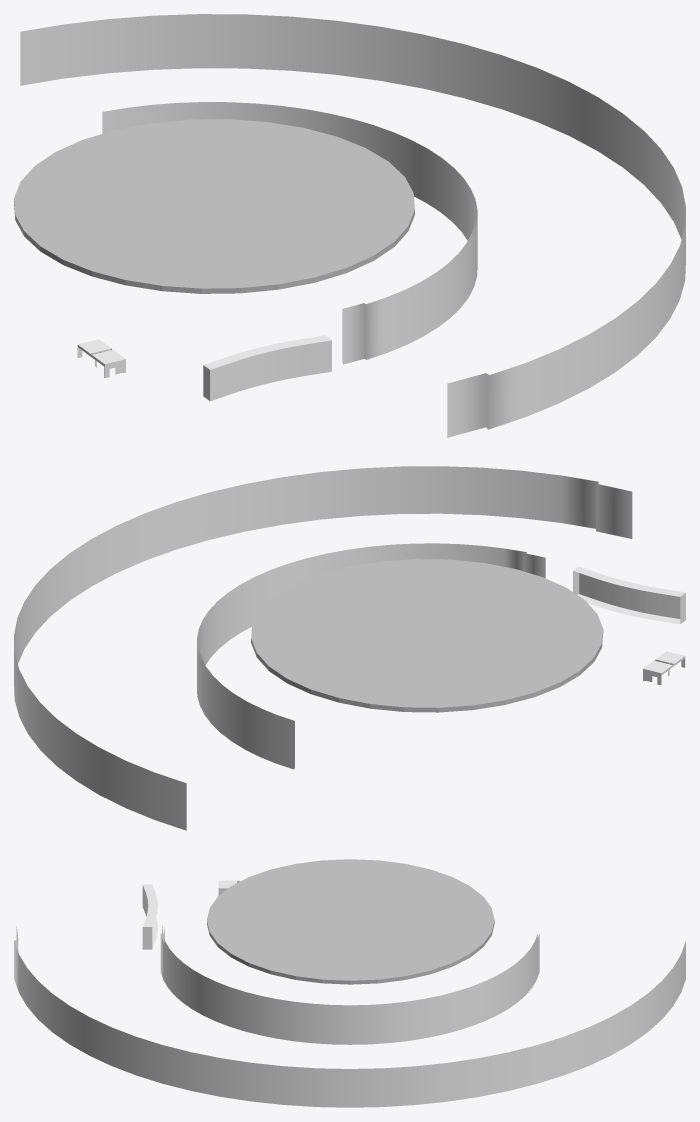
File: theroomv2_test9_glass.obj
3 renders of one model, top to bottom at view 1: azimuth 30°, elevation 25°; view 2: azimuth 150°, elevation 25°; view 3: azimuth 270°, elevation 25°, orthographic. The views are drawn at different scales.
Visible parts, largest first — view 1: Cylinder.079_Cylinder.084, Cylinder.013, Cylinder.015, Cylinder.016, Cube.199_Cube.214, Cube.219_Cube.235; view 2: Cylinder.079_Cylinder.084, Cylinder.013, Cylinder.015, Cylinder.016, Cube.199_Cube.214, Cube.219_Cube.235; view 3: Cylinder.079_Cylinder.084, Cylinder.013, Cylinder.016, Cube.199_Cube.214, Cylinder.015.
Part boxes in pixels (<box>): Cylinder.079_Cylinder.084: <box>14,119,414,293</box>; Cylinder.013: <box>20,14,685,437</box>; Cylinder.015: <box>104,102,475,362</box>; Cylinder.016: <box>102,102,477,364</box>; Cube.199_Cube.214: <box>203,335,331,401</box>; Cube.219_Cube.235: <box>77,339,125,377</box>; Cylinder.079_Cylinder.084: <box>251,559,603,712</box>; Cylinder.013: <box>14,466,632,830</box>; Cylinder.015: <box>198,544,543,768</box>; Cylinder.016: <box>197,543,545,769</box>; Cube.199_Cube.214: <box>573,566,685,624</box>; Cube.219_Cube.235: <box>643,651,685,685</box>; Cylinder.079_Cylinder.084: <box>207,859,494,984</box>; Cylinder.013: <box>14,926,685,1107</box>; Cylinder.016: <box>160,926,539,1044</box>; Cube.199_Cube.214: <box>142,884,157,949</box>; Cylinder.015: <box>162,927,537,1005</box>.
Bounding box in the file's own units: 164 × 16.34 × 219.
